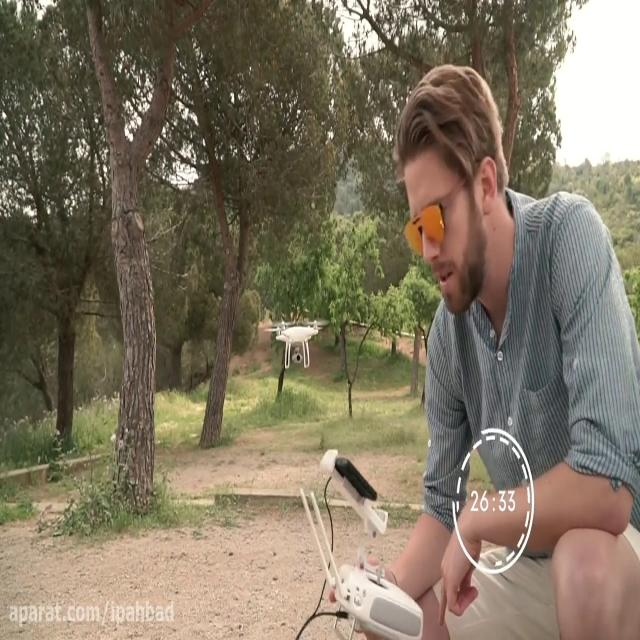drone: (261, 314, 330, 372)
